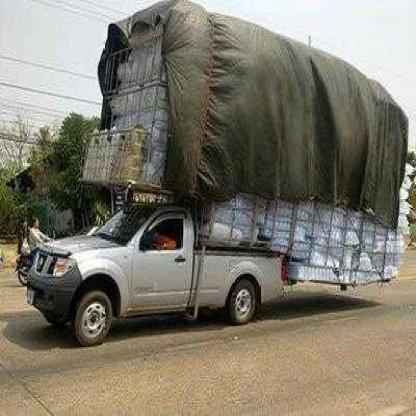overloaded-truck: (84, 13, 410, 236)
